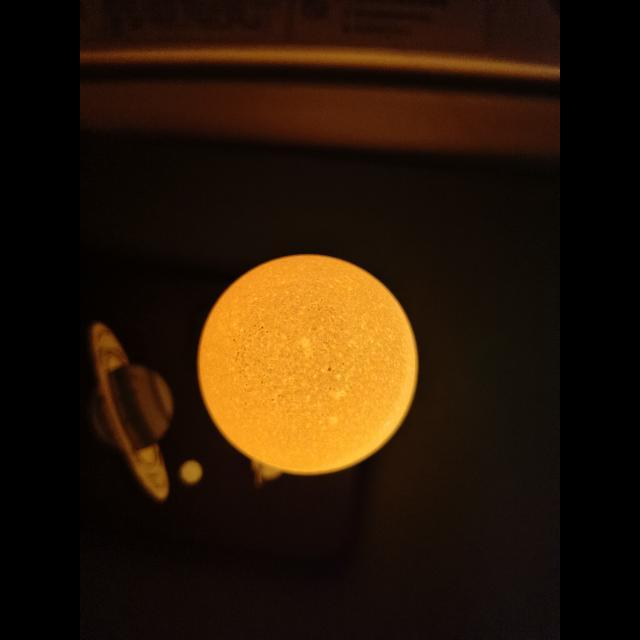AA - Premium: (198, 255, 418, 475), (296, 330, 300, 333), (320, 305, 323, 308)
